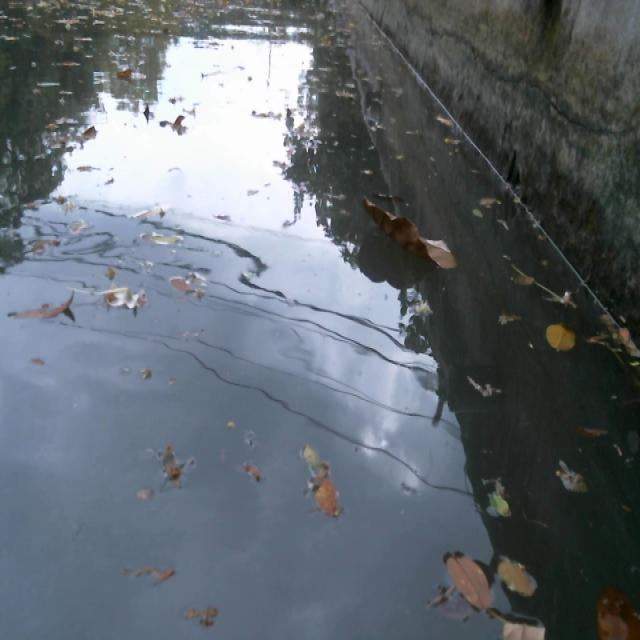Big-leaf: (352, 190, 461, 279)
Small-leaf: (282, 444, 352, 525), (435, 545, 496, 618), (587, 578, 640, 640), (2, 293, 84, 327), (149, 433, 196, 491), (485, 554, 542, 600), (161, 266, 218, 305), (473, 473, 518, 522), (496, 605, 556, 640), (116, 559, 178, 592), (98, 283, 155, 317), (174, 599, 228, 634), (542, 316, 583, 360), (128, 191, 178, 227), (460, 368, 505, 401), (553, 462, 593, 496), (227, 454, 266, 486), (167, 103, 194, 139), (145, 226, 185, 250), (25, 232, 69, 253), (46, 189, 82, 214), (491, 304, 525, 329), (77, 118, 103, 148), (140, 354, 161, 388), (505, 265, 537, 286), (71, 157, 108, 175), (476, 191, 503, 210), (112, 64, 135, 85), (138, 104, 158, 123), (95, 177, 122, 191), (464, 202, 485, 219)
